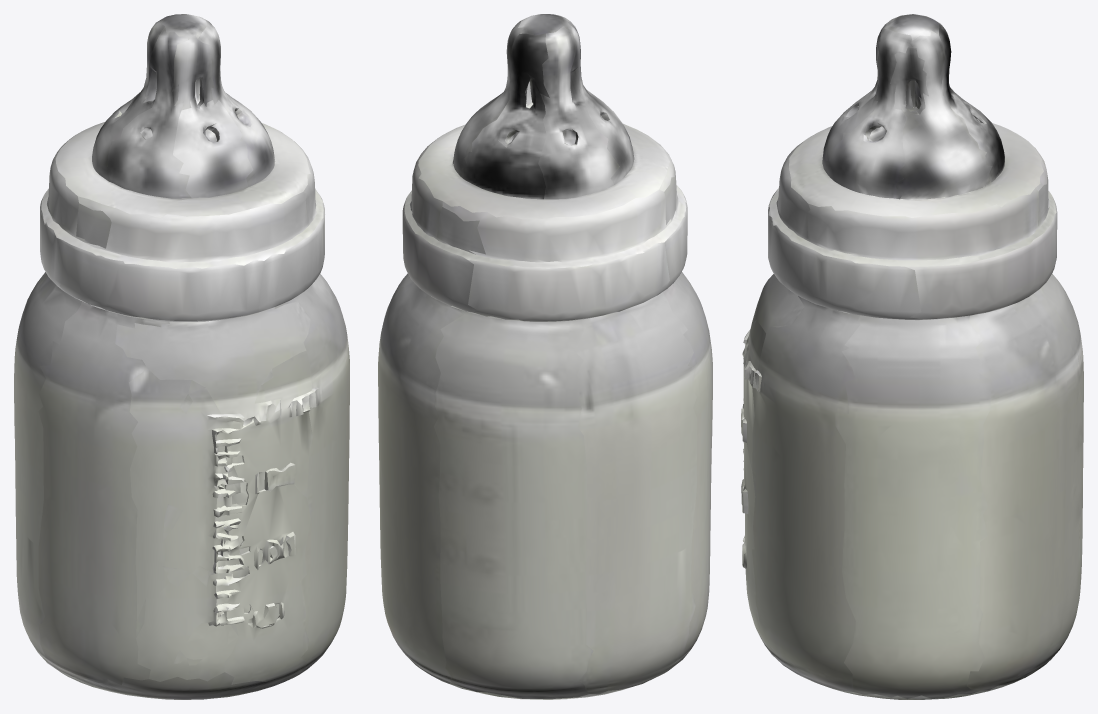
The model's file is naiwa_bottle.glb.
3 renders of one model, left to right at view 1: azimuth 30°, elevation 25°; view 2: azimuth 150°, elevation 25°; view 3: azimuth 270°, elevation 25°, orthographic.
Visible parts, largest first — view 1: geometry_0; view 2: geometry_0; view 3: geometry_0.
Boxes of the visible parts, x1,y1,x2,y2 form: geometry_0: (14, 14, 349, 699); geometry_0: (378, 14, 712, 699); geometry_0: (741, 14, 1083, 699).
Bounding box in the file's own units: 0.0708 × 0.145 × 0.0723.
Materials: 1 (1 with a texture image).
